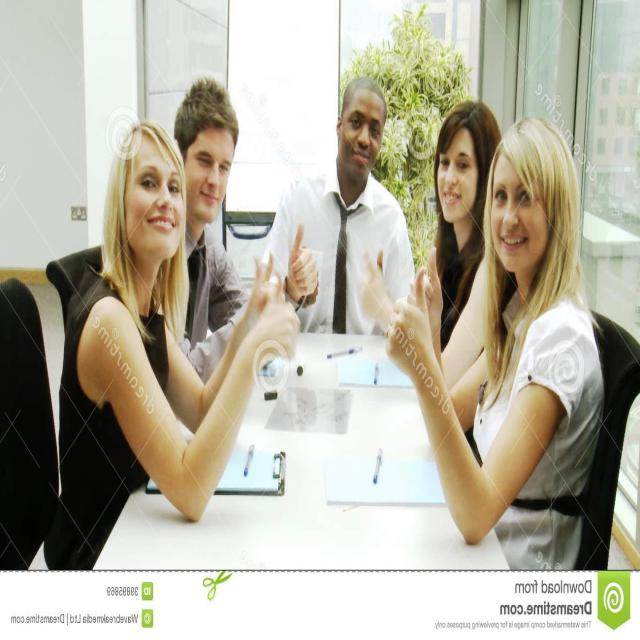adult: (56, 122, 302, 568), (387, 114, 603, 575), (160, 81, 318, 370), (284, 80, 416, 335), (419, 103, 502, 379)
